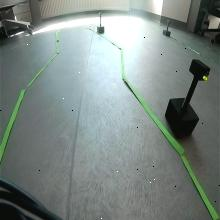green: (190, 59, 212, 84)
